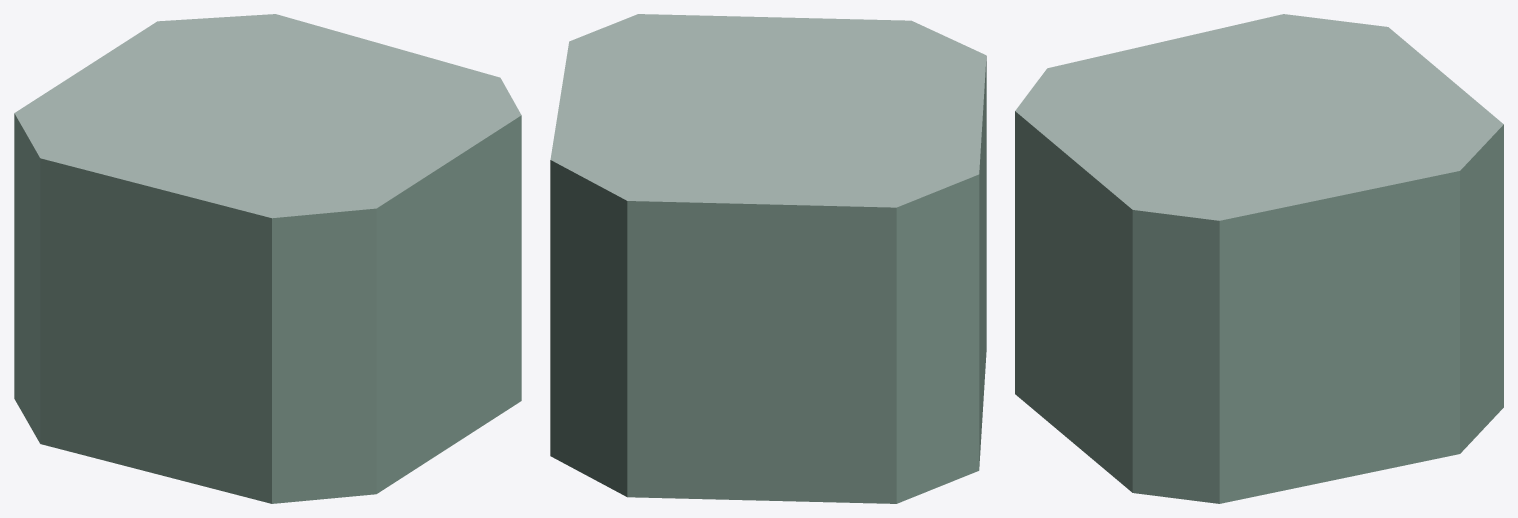
Rendered from nyc-1091077-0.glb.
3 renders of one model, left to right at view 1: azimuth 30°, elevation 25°; view 2: azimuth 150°, elevation 25°; view 3: azimuth 270°, elevation 25°, orthographic. The views are drawn at different scales.
Visible parts, largest first — view 1: nyc-1091077-0; view 2: nyc-1091077-0; view 3: nyc-1091077-0.
Boxes of the visible parts, x1,y1,x2,y2 form: nyc-1091077-0: (14, 14, 521, 503); nyc-1091077-0: (550, 14, 986, 503); nyc-1091077-0: (1015, 14, 1503, 503).
Size of the model in its own units: 7.16 by 4.57 by 7.15.
